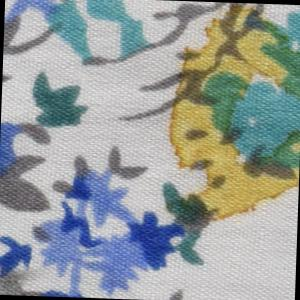Oil Stain: (165, 1, 300, 231)
Stain: (1, 260, 51, 297)
